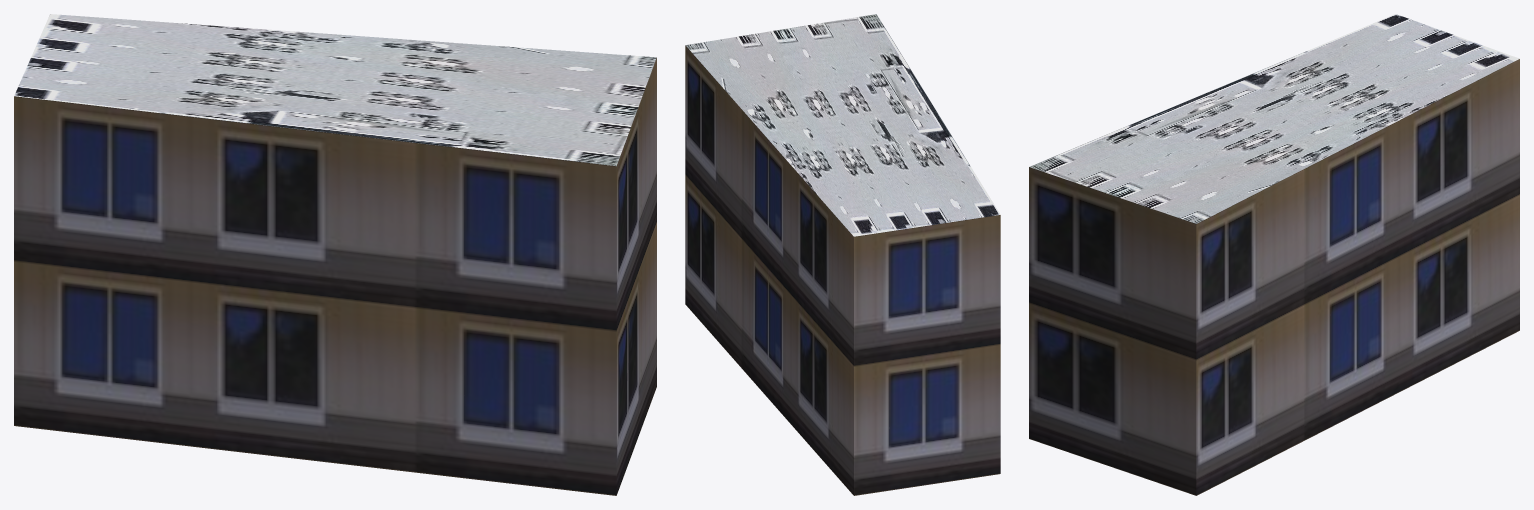
The model's file is ResTex__1322.fbx.
3 renders of one model, left to right at view 1: azimuth 30°, elevation 25°; view 2: azimuth 150°, elevation 25°; view 3: azimuth 270°, elevation 25°, orthographic. The views are drawn at different scales.
Visible parts, largest first — view 1: CityEngineMaterial_5_m, CityEngineMaterial_m; view 2: CityEngineMaterial_5_m, CityEngineMaterial_m; view 3: CityEngineMaterial_5_m, CityEngineMaterial_m.
Part boxes in pixels (left/top/right/bottom): CityEngineMaterial_5_m: left=14, top=58, right=656, bottom=495; CityEngineMaterial_m: left=14, top=14, right=656, bottom=166; CityEngineMaterial_5_m: left=685, top=45, right=1000, bottom=495; CityEngineMaterial_m: left=685, top=14, right=1000, bottom=236; CityEngineMaterial_5_m: left=1029, top=59, right=1519, bottom=495; CityEngineMaterial_m: left=1029, top=14, right=1519, bottom=223.
Size of the model in its own units: 9.94 by 6 by 9.82.
2 materials, 2 textured.
